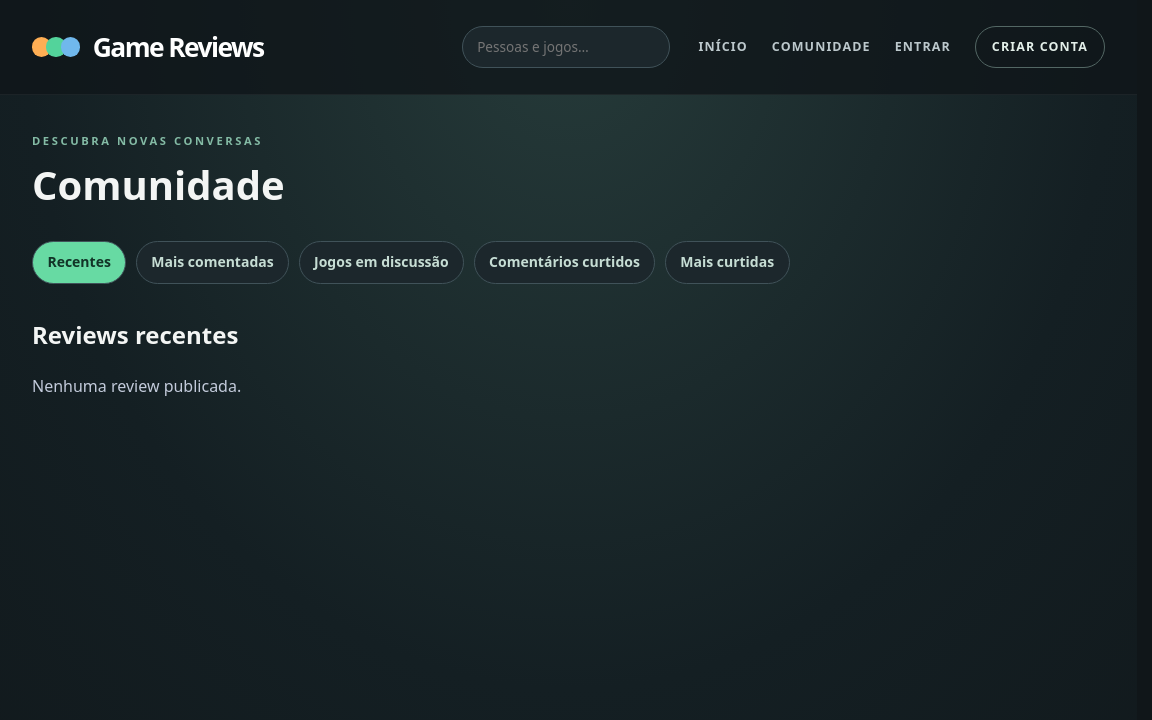
Test: 10 itens por página é opção real e página vazia não inventa total
The width and height of the screenshot is (1152, 720).
Click the button "Comentários curtidos" at (564, 262), box left=474, top=240, right=655, bottom=284
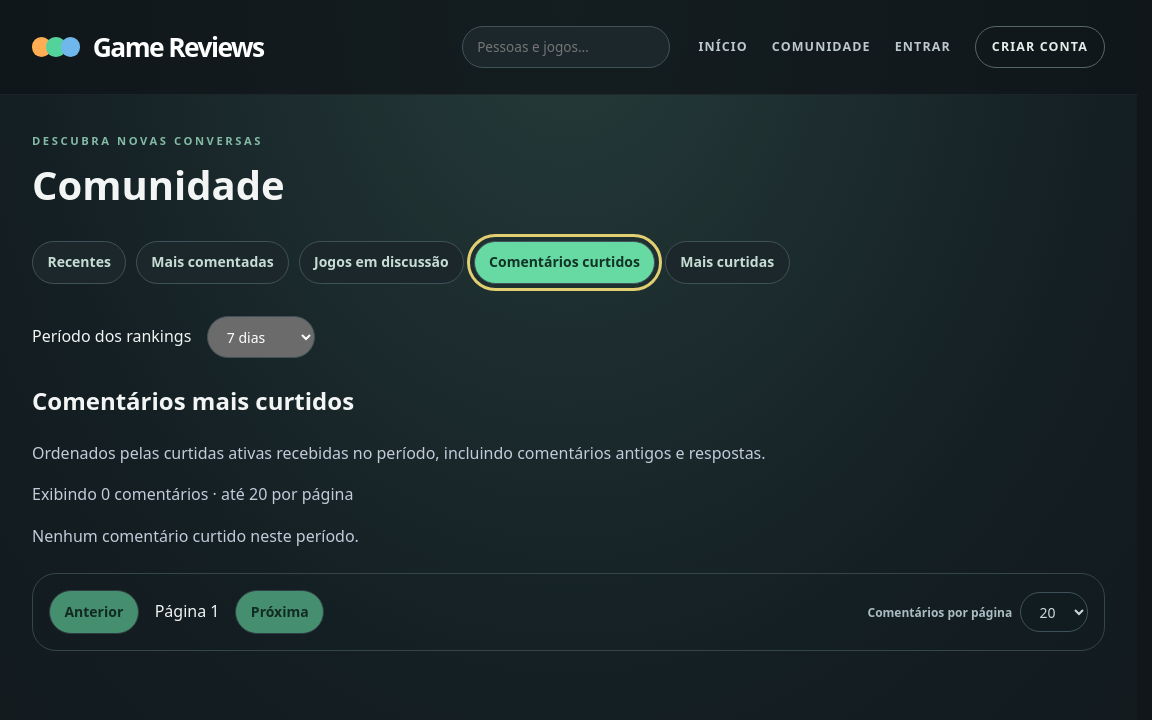
Check: the text "Nenhum comentário curtido neste período." is shown, box left=32, top=525, right=359, bottom=547
Select "10" in the dropdown labelled "Comentários por página" at (1054, 612), box left=1020, top=592, right=1088, bottom=632
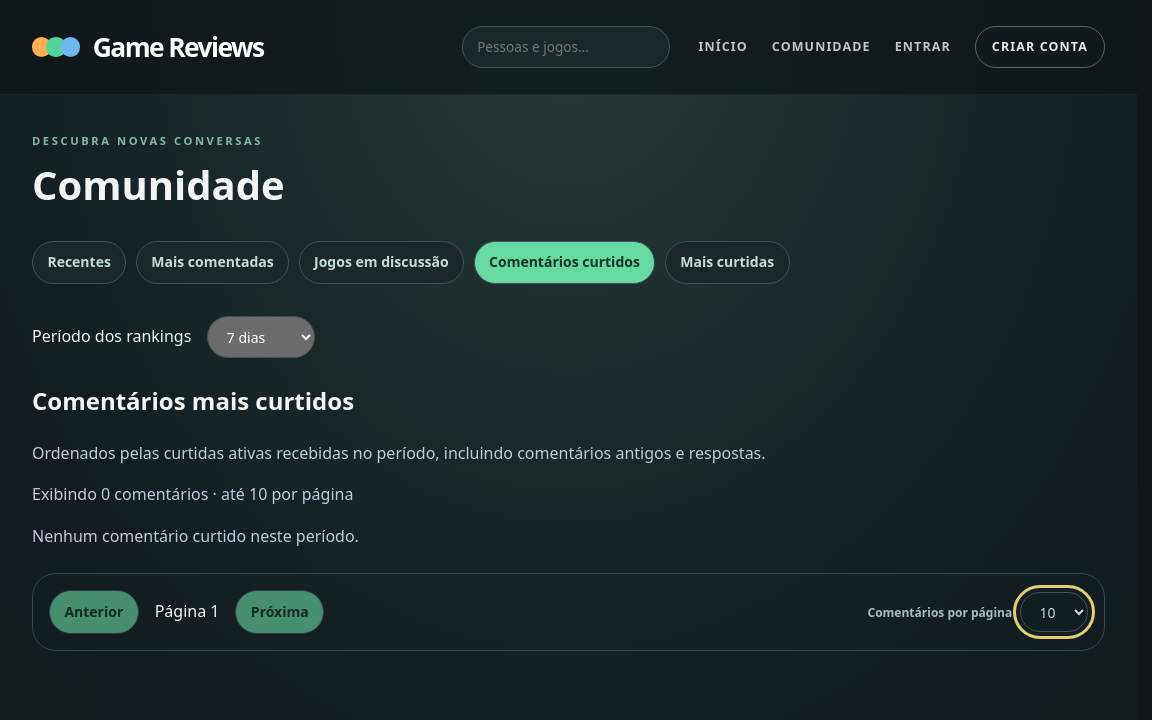
Check: the button "Próxima" is disabled, box left=236, top=590, right=324, bottom=634
Check: the text "Exibindo 0 comentários · até 10 por página" is shown, box left=32, top=483, right=353, bottom=505
